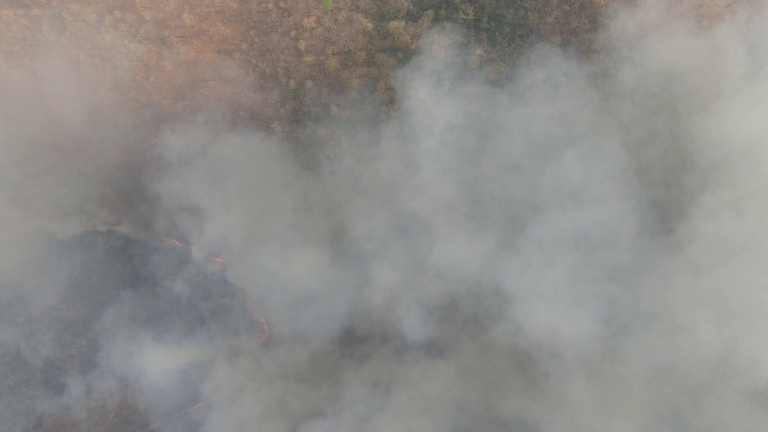fire: (160, 391, 246, 426), (156, 232, 229, 271), (247, 304, 270, 354)
smoke: (208, 24, 768, 432)
